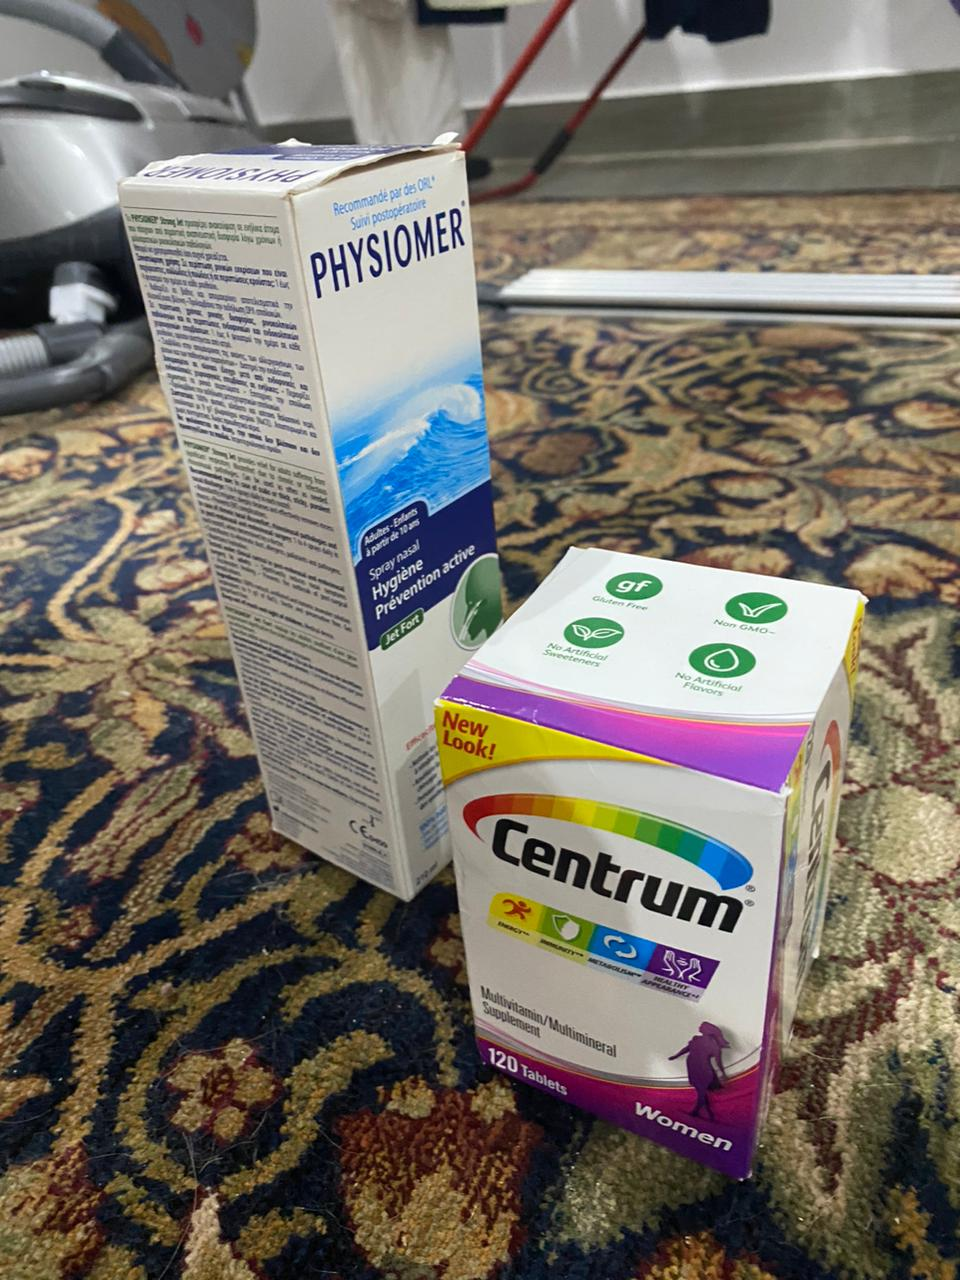Centrum: (434, 541, 868, 1182)
Physiomer: (125, 130, 512, 902)
